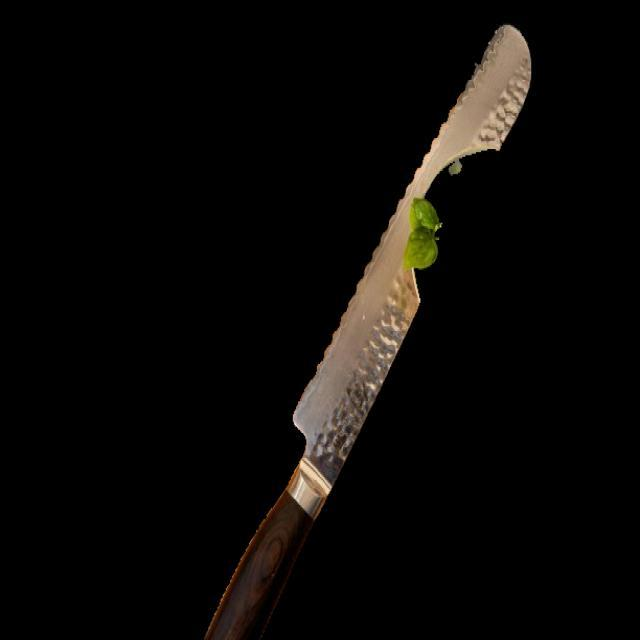knife: (206, 20, 535, 638)
